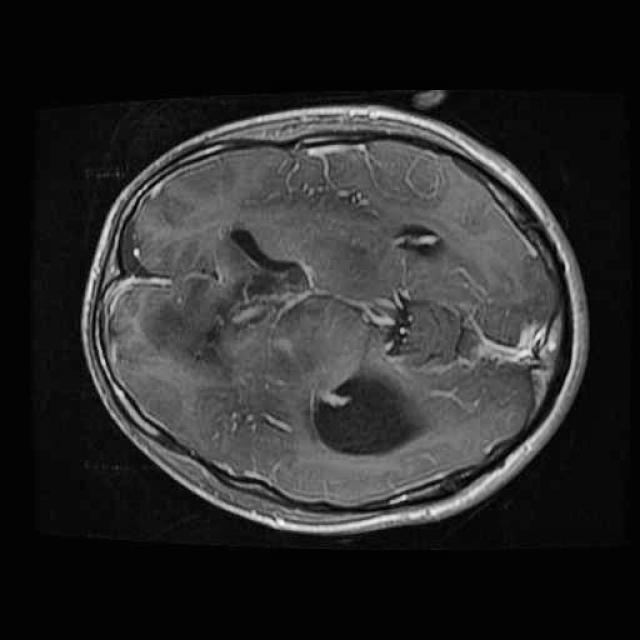Non-Tumor: (289, 350, 471, 488)
